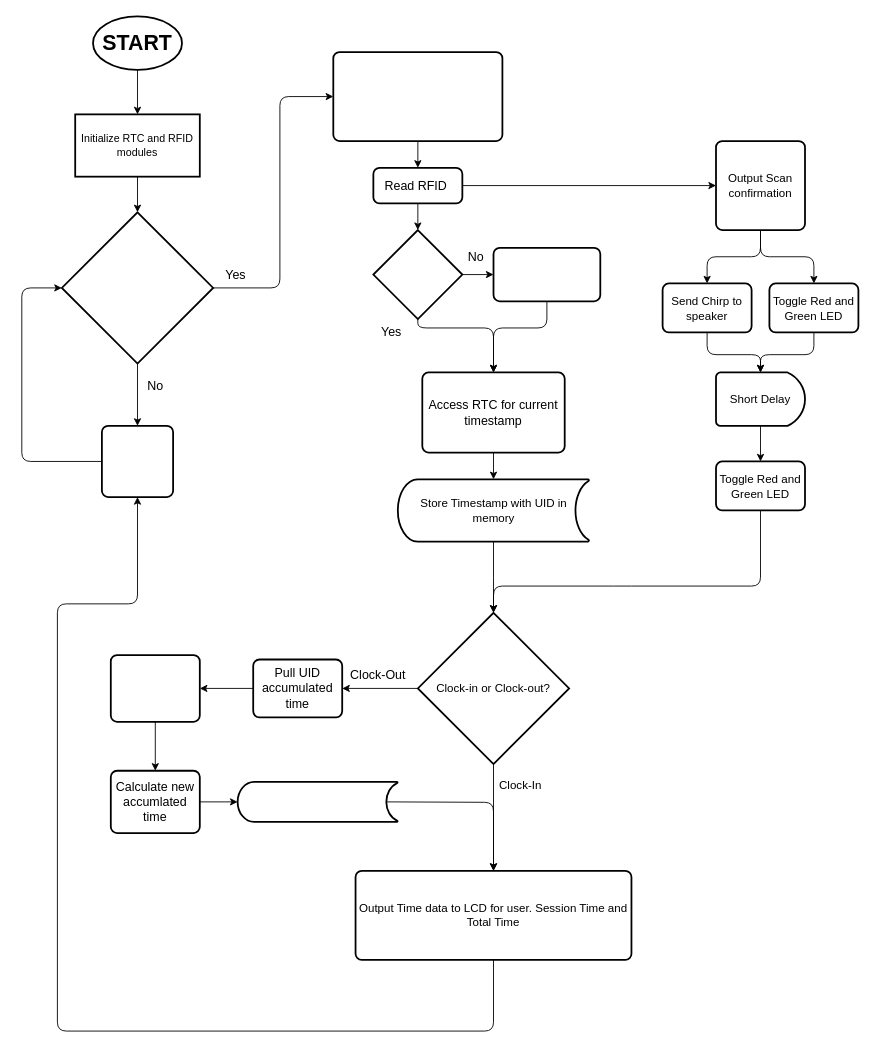
Image size: 875x1054. Some labels were removed from this diagram. The centre of each missing label's shape, as x and y in pixels:
Check last timestamp registered with UID: (154,688)
Exit Low Power Mode: (417,96)
Known Tag?: (417,274)
Low power mode: (137,461)
Register new tag in system: (546,274)
RFID interrupt?: (137,287)
Store new time for UID: (317,801)
